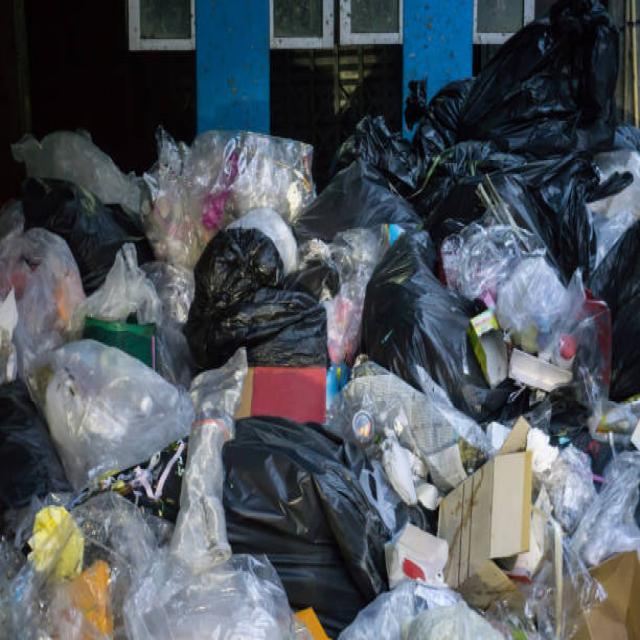Trashbag: (214, 408, 388, 616), (460, 13, 622, 144), (356, 249, 470, 382), (445, 166, 590, 268), (26, 167, 150, 282), (193, 282, 335, 370), (299, 161, 424, 238), (183, 226, 289, 299)
